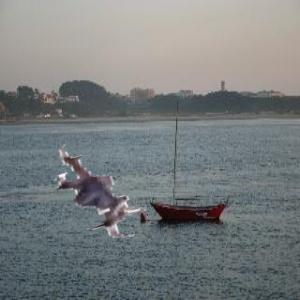drone: (39, 126, 162, 249)
